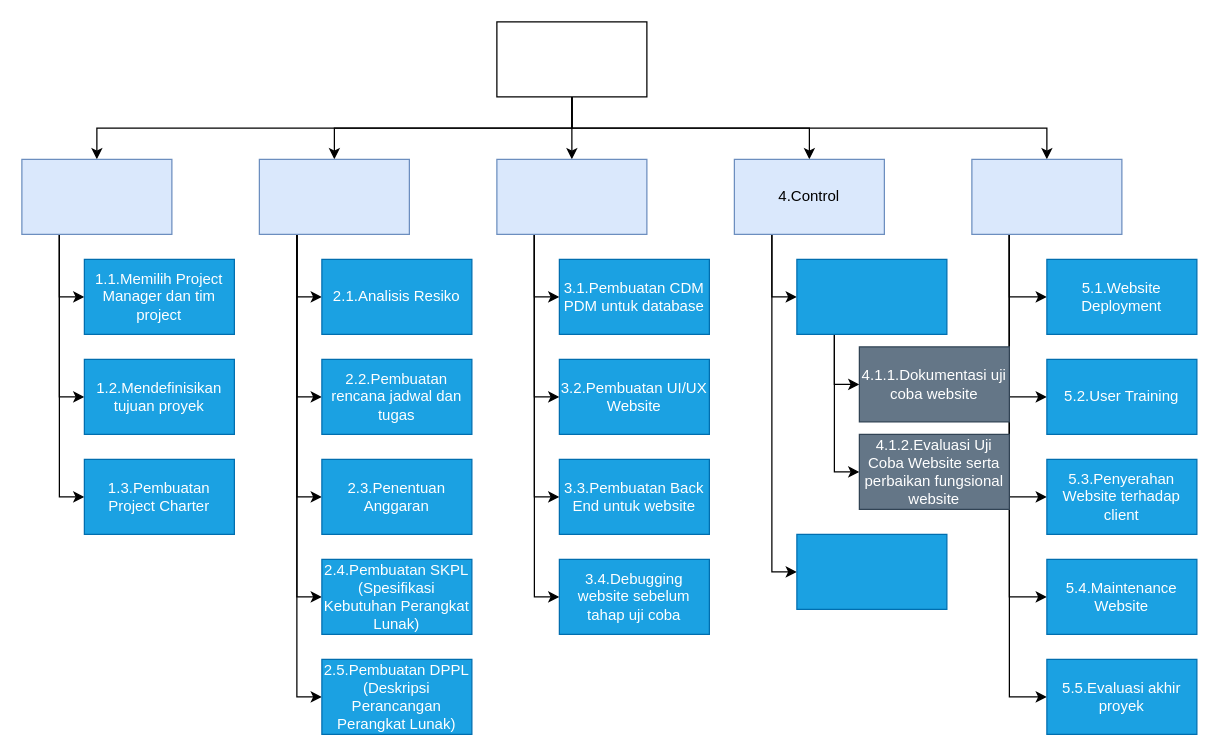
Image size: 1219x756. Some labels were removed from this diagram. The box of each missing label's shape, as (x1, y1, x2, y2) in pixels:
0. Sistem Informasi Senikersku: (496, 21, 647, 97)
1.Initiation: (21, 158, 172, 234)
2.Planning: (258, 158, 409, 234)
3.Execution: (496, 158, 647, 234)
4.1.Uji Coba Website: (796, 258, 947, 334)
4.2.Mengontrol perubahan ruang lingkup: (796, 533, 947, 609)
5.Closure: (971, 158, 1122, 234)
